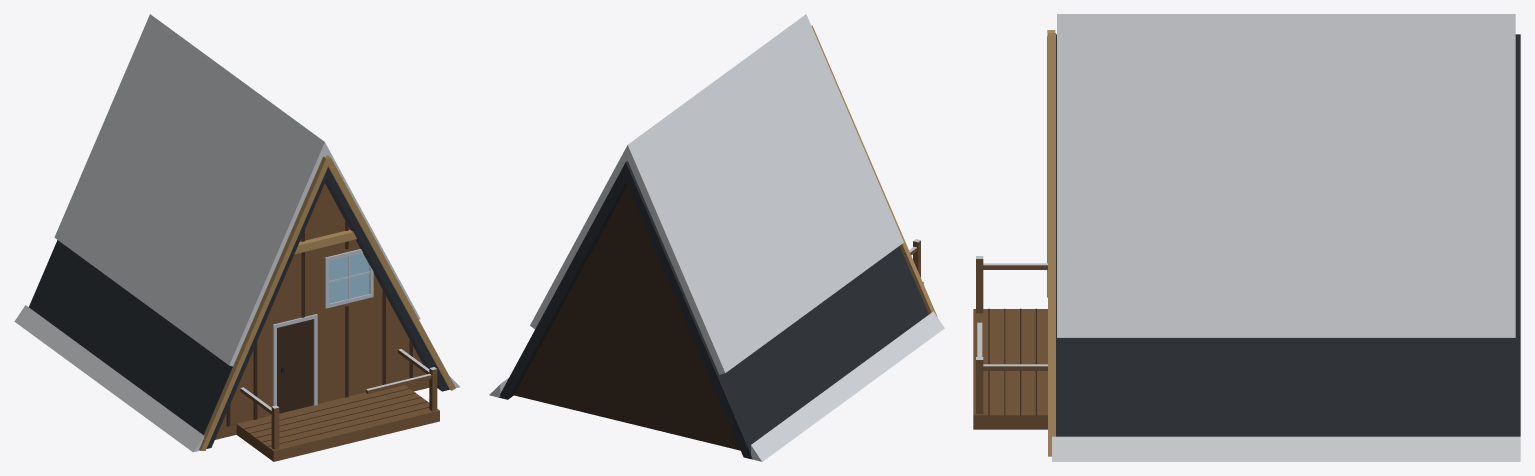
Rendered from a_frame_cabin.glb.
The picture shows the model from 3 angles, left to right: view 1: azimuth 30°, elevation 25°; view 2: azimuth 150°, elevation 25°; view 3: azimuth 270°, elevation 25°; orthographic projection. The views are drawn at different scales.
Parts seen in each view (by area): view 1: Body, Front, Deck, WindowsFront; view 2: Body, Front; view 3: Body, Deck, Front.
Part boxes in pixels (bbox=[...]): Body: bbox=[14, 14, 460, 452]; Front: bbox=[199, 155, 455, 450]; Deck: bbox=[236, 349, 439, 461]; WindowsFront: bbox=[329, 253, 369, 303]; Body: bbox=[489, 14, 944, 461]; Front: bbox=[811, 25, 937, 317]; Body: bbox=[1052, 14, 1520, 461]; Deck: bbox=[973, 256, 1047, 429]; Front: bbox=[1047, 30, 1055, 456].
Size of what is drawn, in the model's own units: 6.44 by 6.36 by 8.7.
